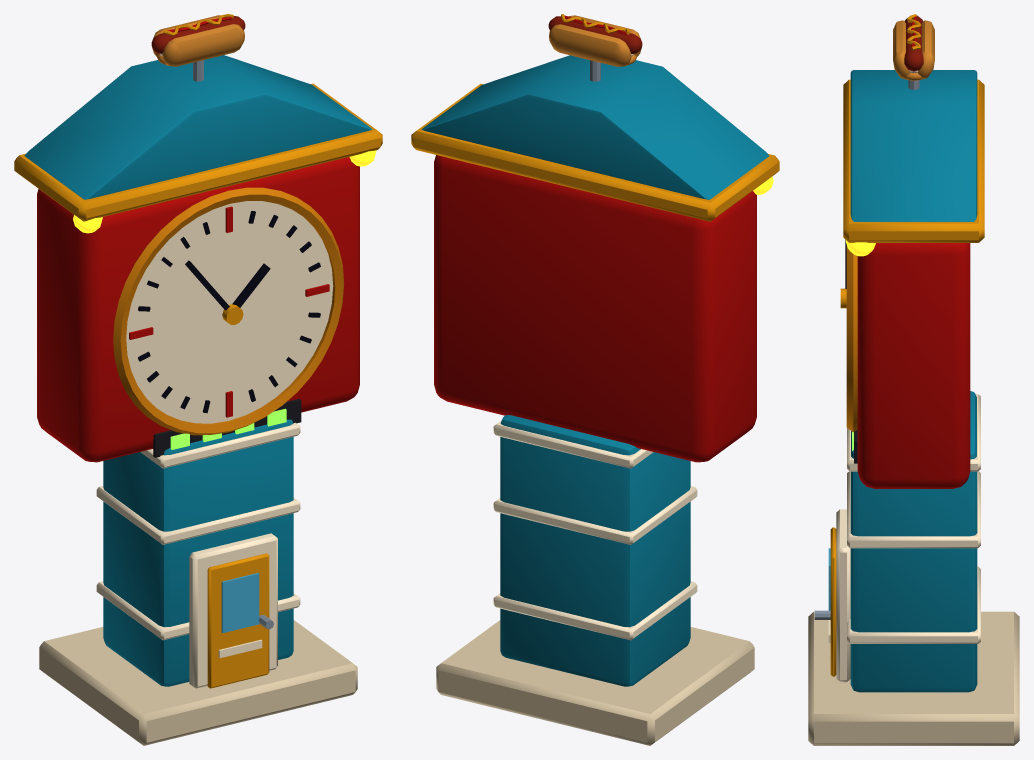
Rendered from ClockBoard.fbx.
3 views of the same model, side by side, from view 1: azimuth 30°, elevation 25°; view 2: azimuth 150°, elevation 25°; view 3: azimuth 270°, elevation 25° (orthographic).
Parts seen in each view (by area): view 1: ClockBoard; view 2: ClockBoard; view 3: ClockBoard.
Boxes of the visible parts, box(x1,y1,x2,y2) form: ClockBoard: box(14, 14, 382, 745); ClockBoard: box(411, 14, 779, 745); ClockBoard: box(808, 14, 1019, 745).
Size of the model in its own units: 5 by 10.39 by 3.
